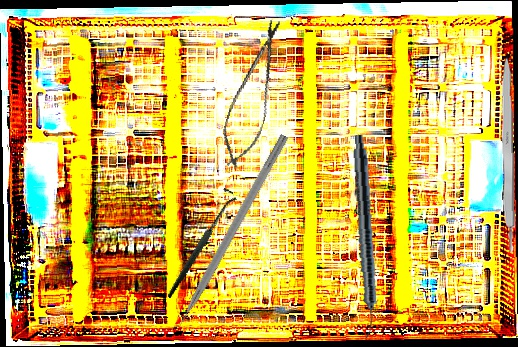Chopper: (157, 127, 290, 341)
Handpiece: (347, 134, 382, 339)
Hook Surgical: (135, 185, 263, 299)
Micro Scissor: (213, 14, 293, 173)
Scalpel Handle: (498, 52, 516, 255)
